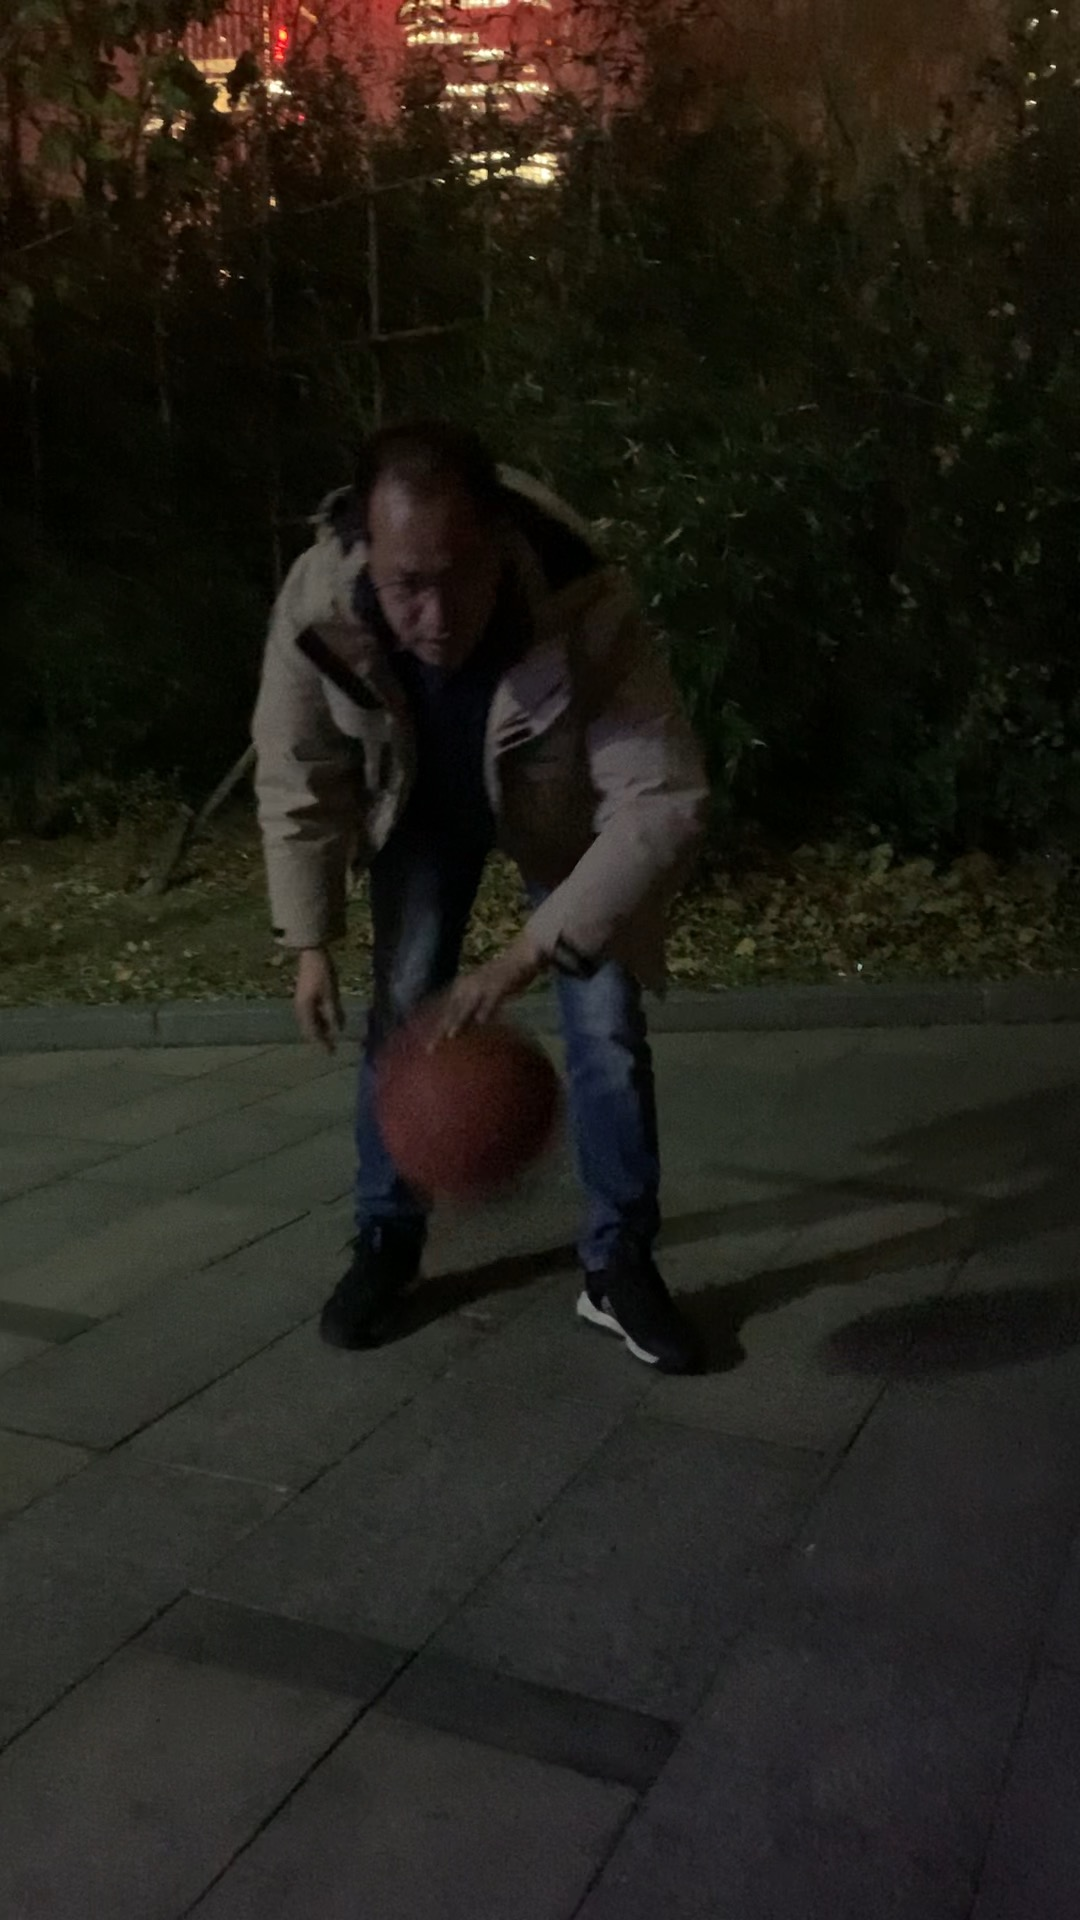ball: (378, 1014, 564, 1204)
